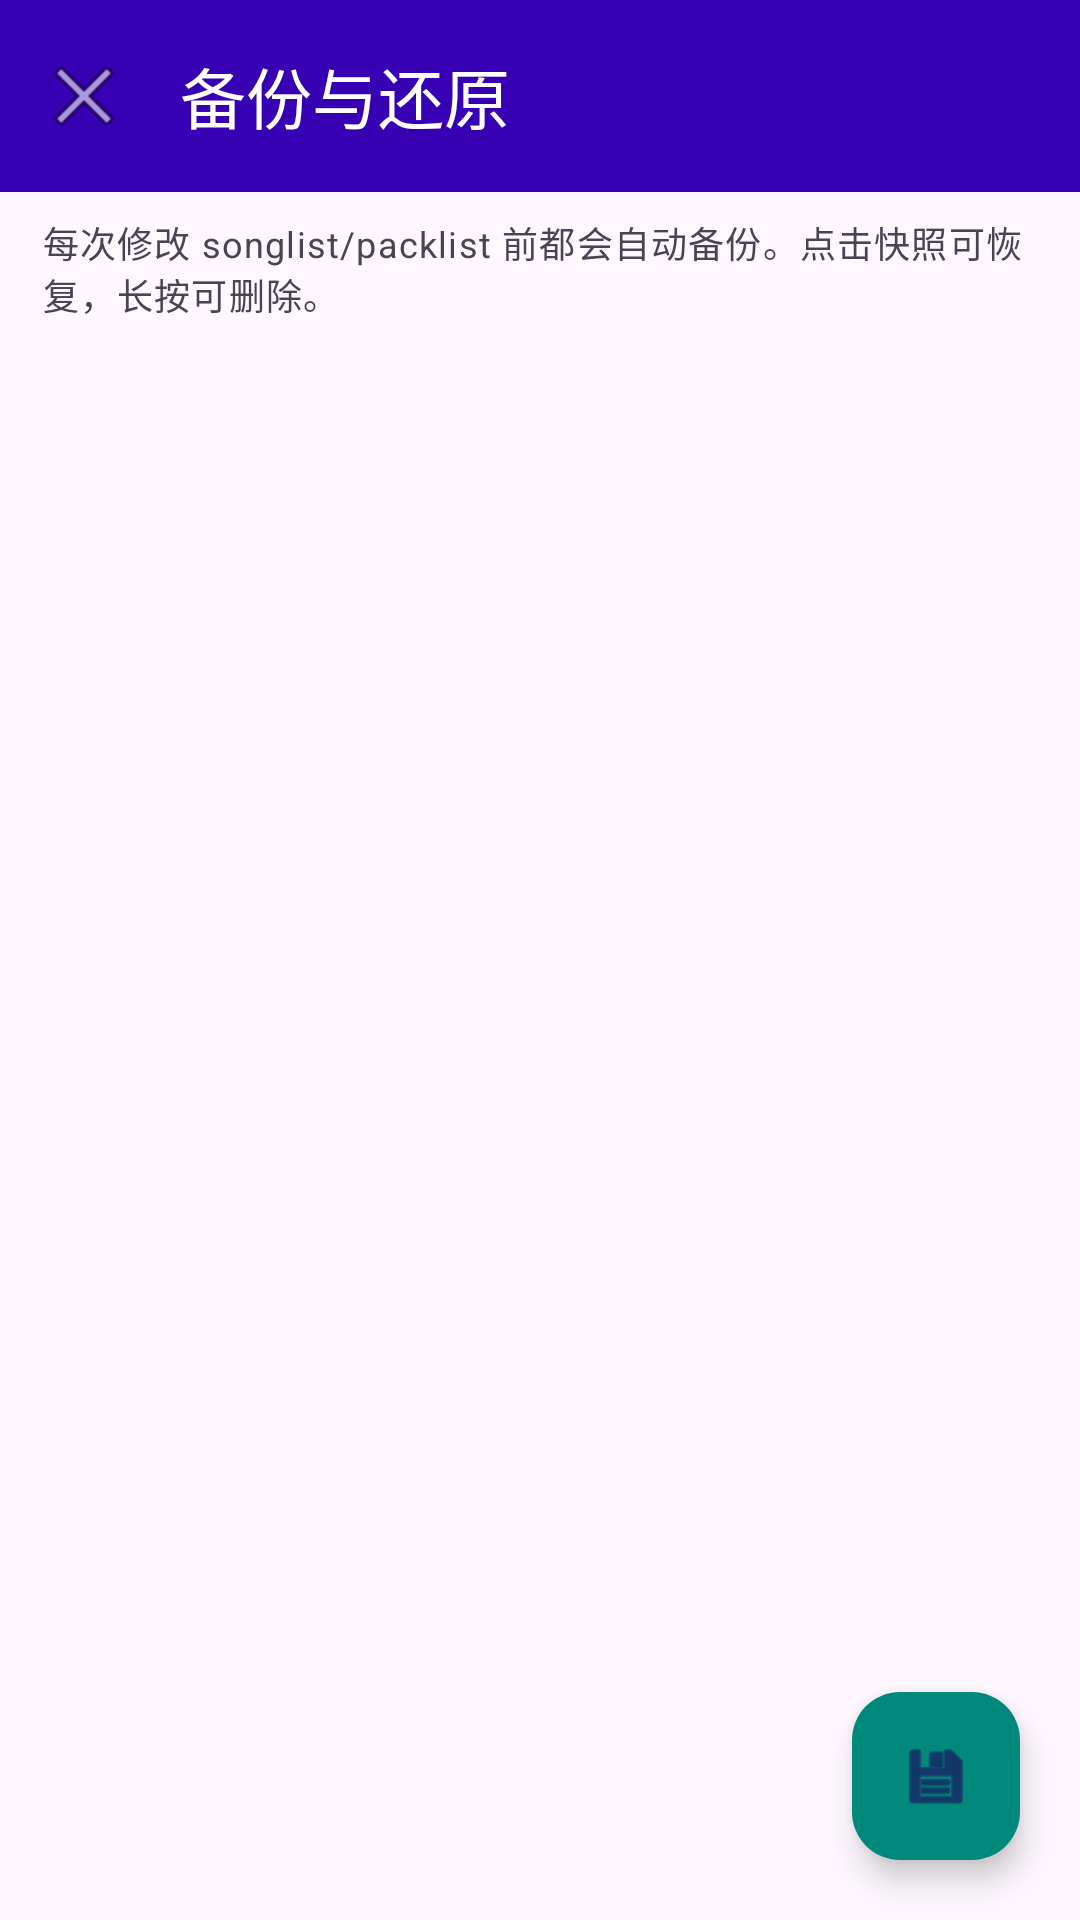

Icon bounding boxes for this 1080x1920 phone screenshot, format BBox(x1, y1, x2, y2):
手动备份: BBox(852, 1692, 1020, 1860)
